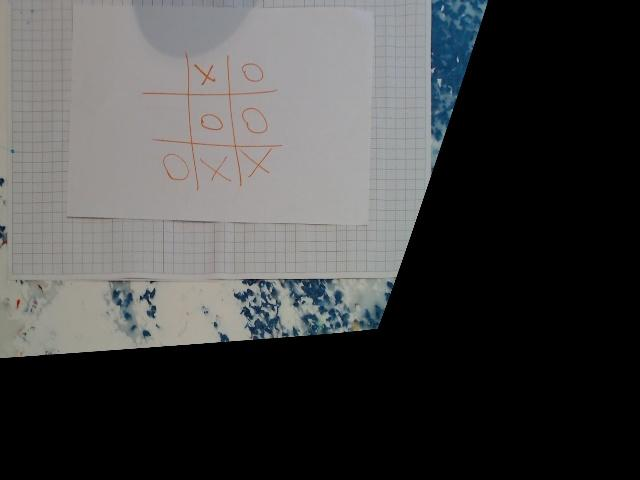O: (160, 152, 191, 188), (241, 108, 271, 134), (198, 112, 226, 139), (241, 60, 266, 88)
X: (200, 155, 231, 188), (243, 150, 274, 179), (193, 63, 217, 88)
grid: (150, 55, 289, 193)
